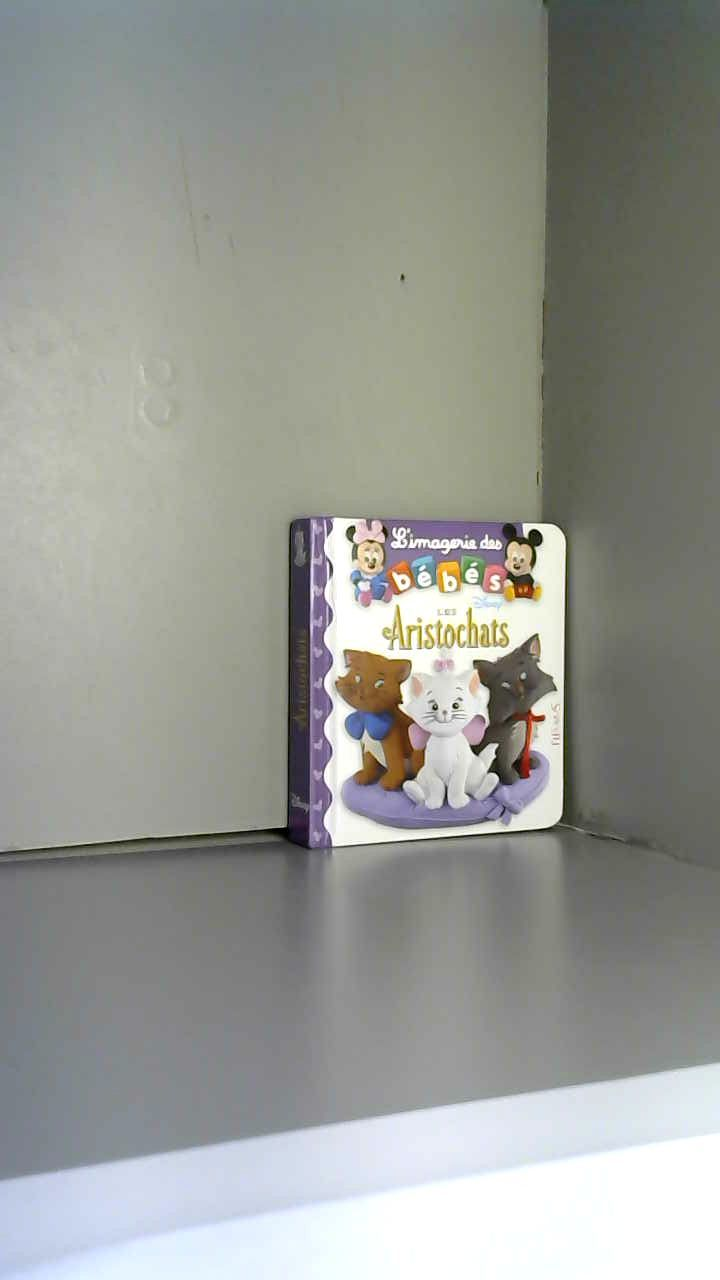book: (267, 495, 590, 870)
